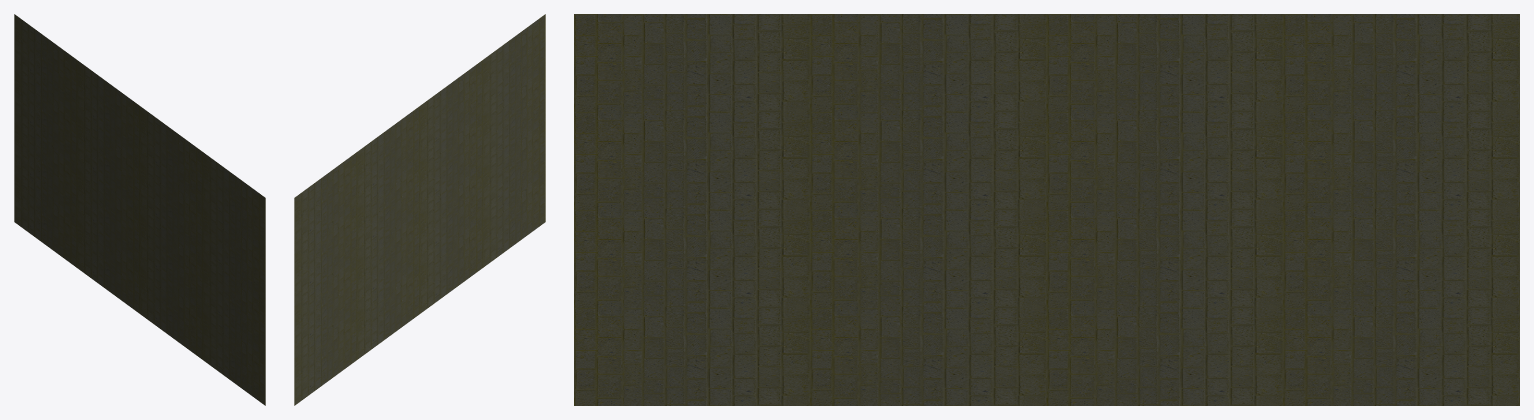
File: wall.fbx
3 renders of one model, left to right at view 1: azimuth 30°, elevation 25°; view 2: azimuth 150°, elevation 25°; view 3: azimuth 270°, elevation 25°, orthographic. The views are drawn at different scales.
Parts seen in each view (by area): view 1: wall; view 2: wall; view 3: wall.
Part boxes in pixels (x1=…): wall: x1=14, y1=14, x2=265, y2=405; wall: x1=294, y1=14, x2=545, y2=405; wall: x1=574, y1=14, x2=1519, y2=405.
Size of the model in its own units: 0 by 35.45 by 77.52.
1 material, 1 textured.
